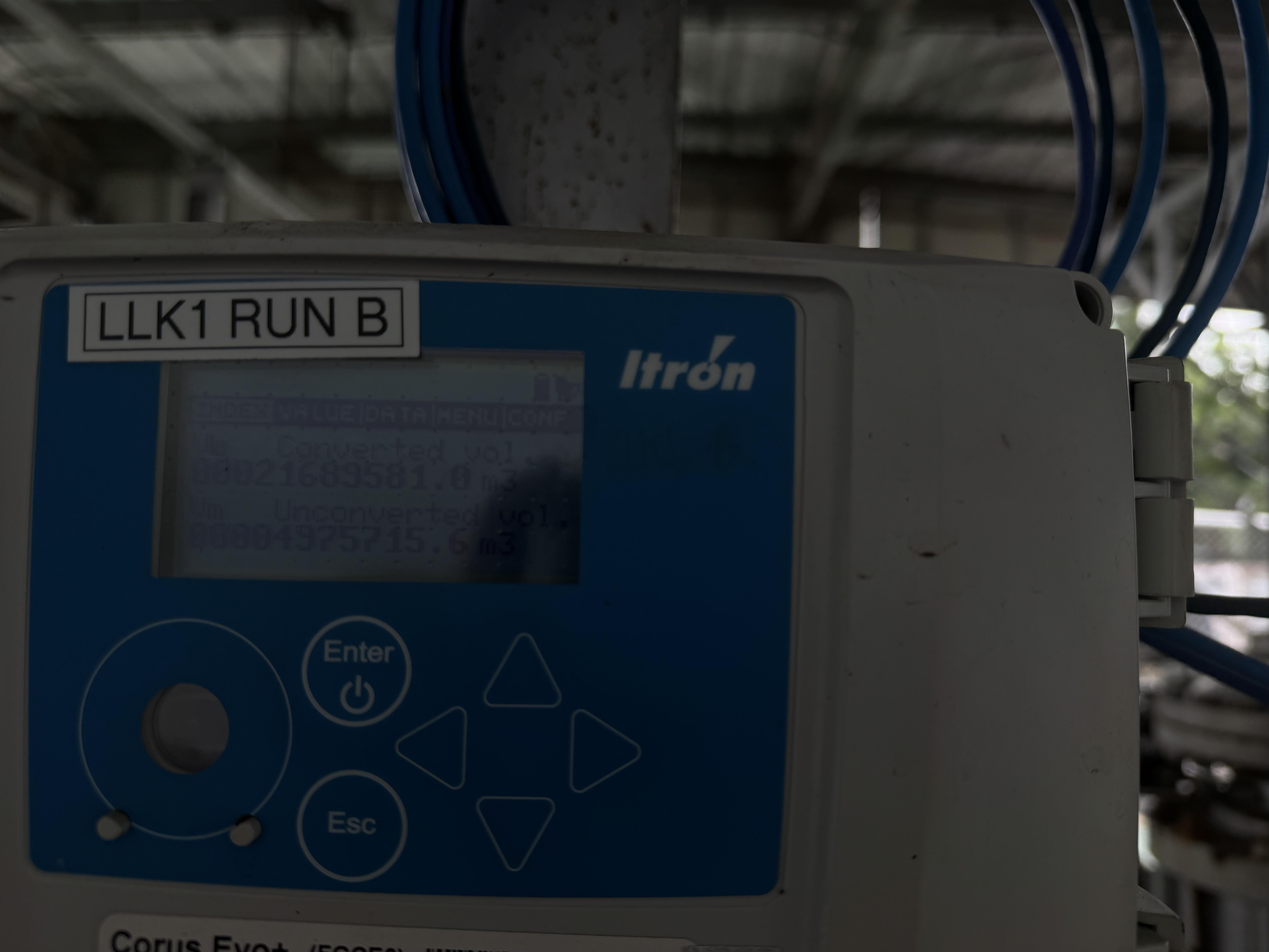digital_screen: (151, 341, 586, 585)
